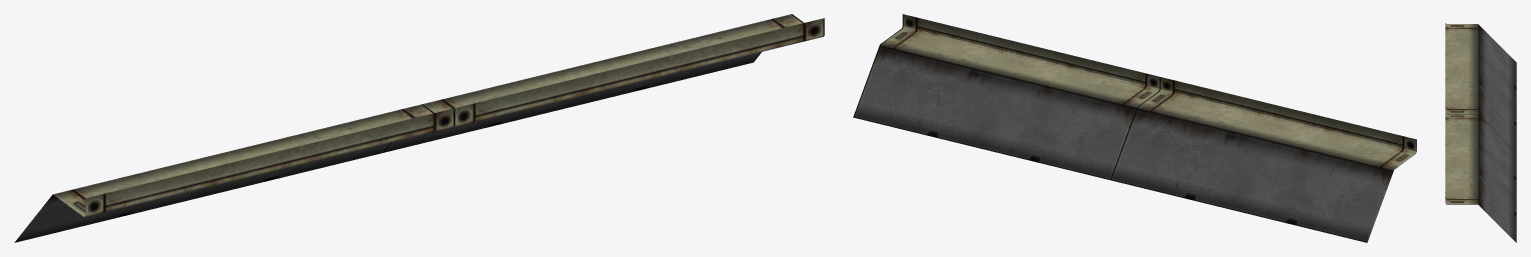
File: living_area_roofedge_straight.dae
3 views of the same model, side by side, from view 1: azimuth 30°, elevation 25°; view 2: azimuth 150°, elevation 25°; view 3: azimuth 270°, elevation 25° (orthographic). The views are drawn at different scales.
Parts seen in each view (by area): view 1: pPlane5; view 2: pPlane5; view 3: pPlane5.
Boxes of the visible parts, x1=… form: pPlane5: x1=14, y1=14, x2=824, y2=242; pPlane5: x1=853, y1=14, x2=1416, y2=242; pPlane5: x1=1445, y1=23, x2=1516, y2=242.
Size of the model in its own units: 4 by 0.5 by 0.6671.
